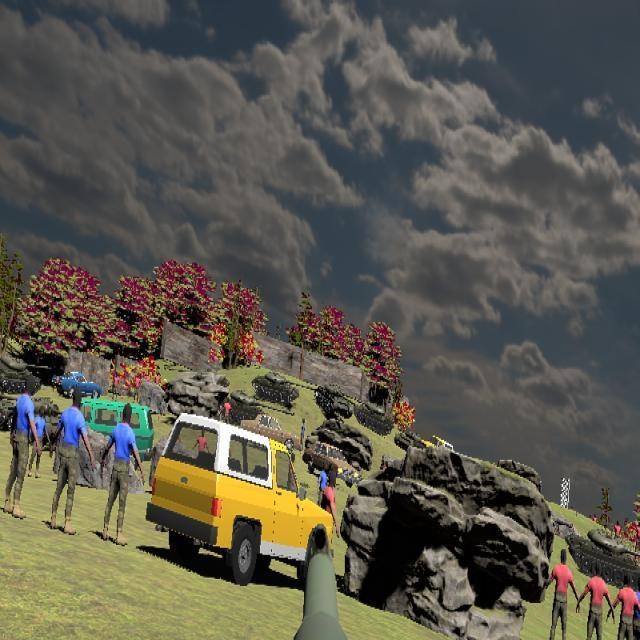Human: (51, 386, 93, 535), (100, 408, 145, 546), (5, 373, 38, 519), (543, 548, 579, 639), (576, 562, 614, 640), (608, 573, 640, 640), (609, 572, 640, 640), (29, 403, 51, 479)
Tank: (566, 527, 640, 593), (0, 353, 50, 394), (252, 371, 312, 405), (349, 393, 394, 435), (352, 394, 394, 436)
car: (145, 413, 338, 586), (69, 398, 154, 461), (303, 441, 358, 489), (55, 371, 104, 401)
